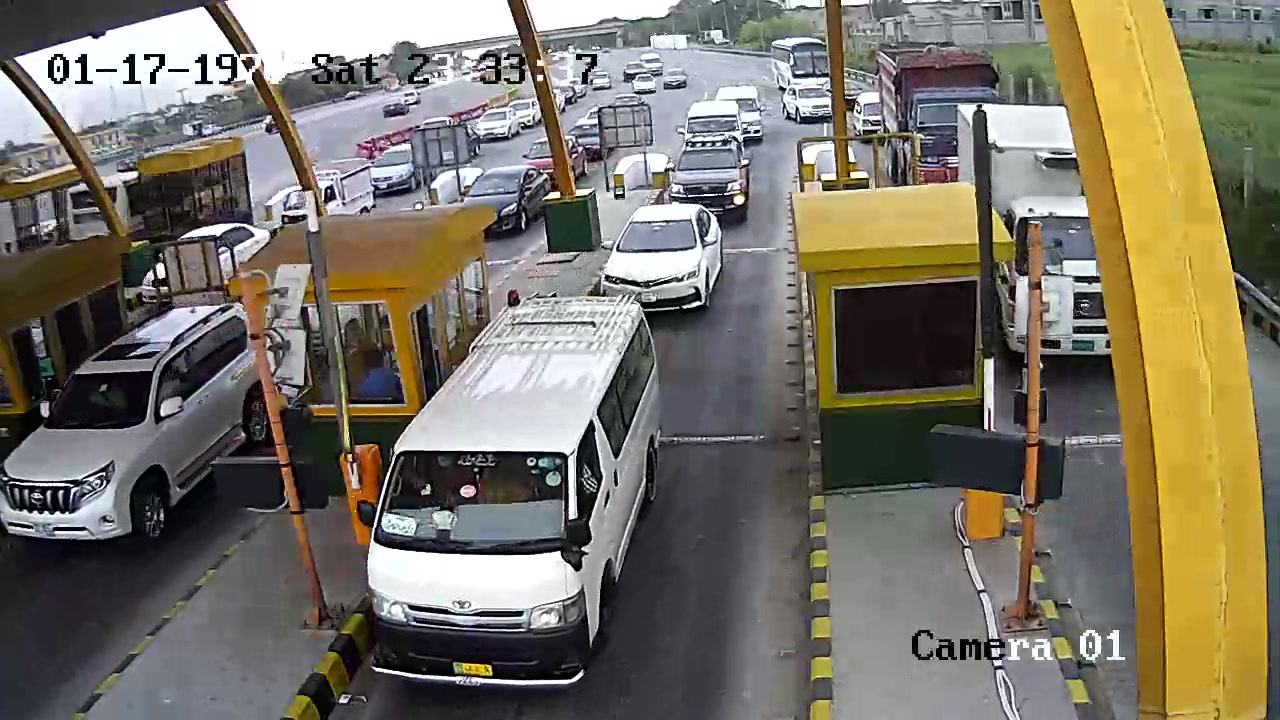F3: (365, 287, 676, 676)
